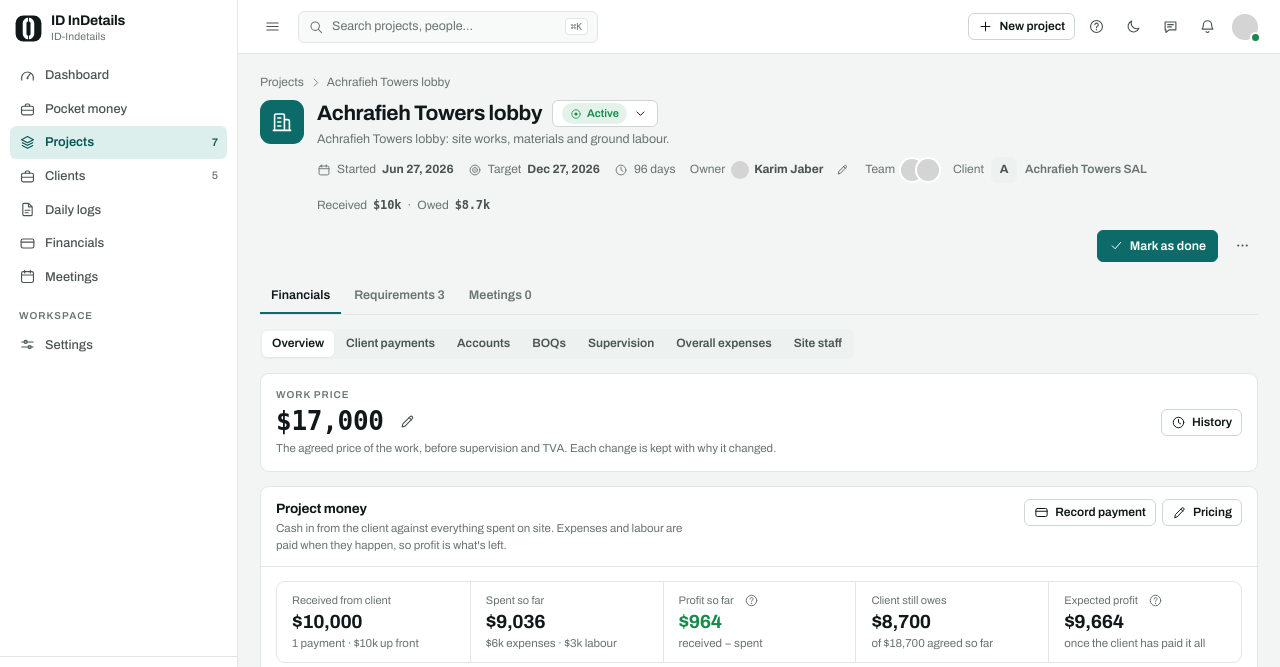
Test: the supervision and TVA › show the work price first on the Financials tab, in bold, and the supervision, the TVA and the client total in the account
Expected: the tab "Financials" is shown, [260,278,341,314]
Click the button named "Edit pricing" at (408, 421), box [392,405,424,437]
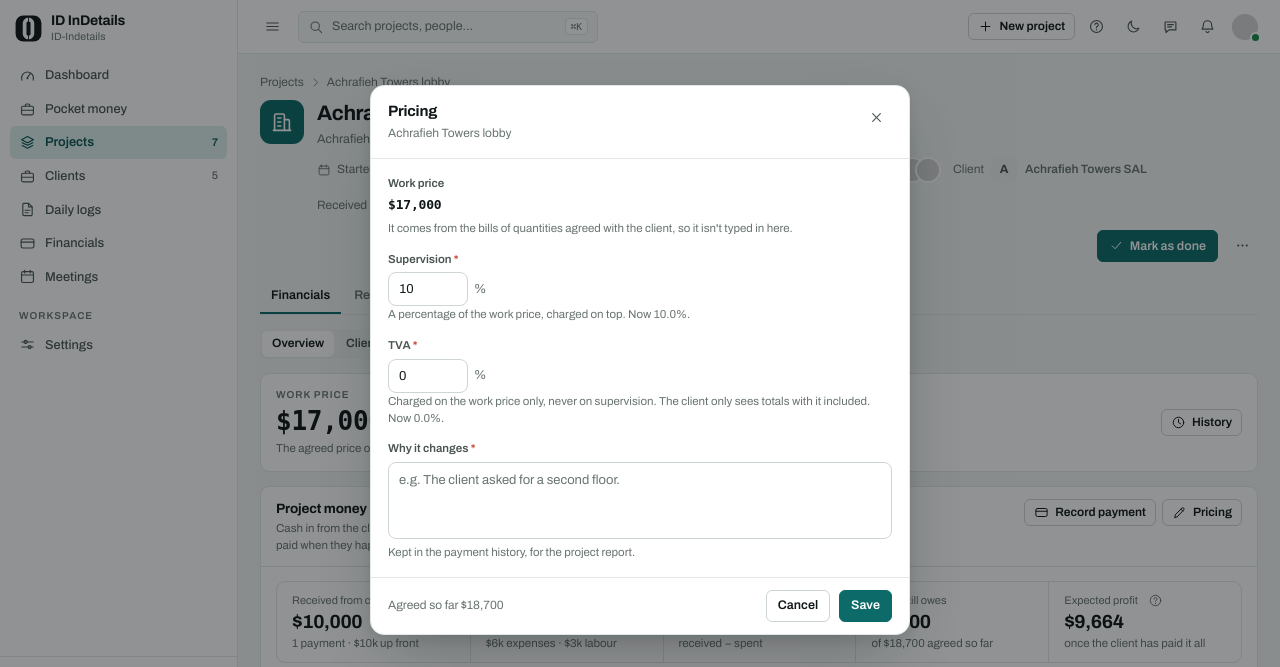
Now the dialog "Pricing" is shown, box [370,86,910,634]
Click the button "Cancel" at (798, 606), box [766,590,830,622]
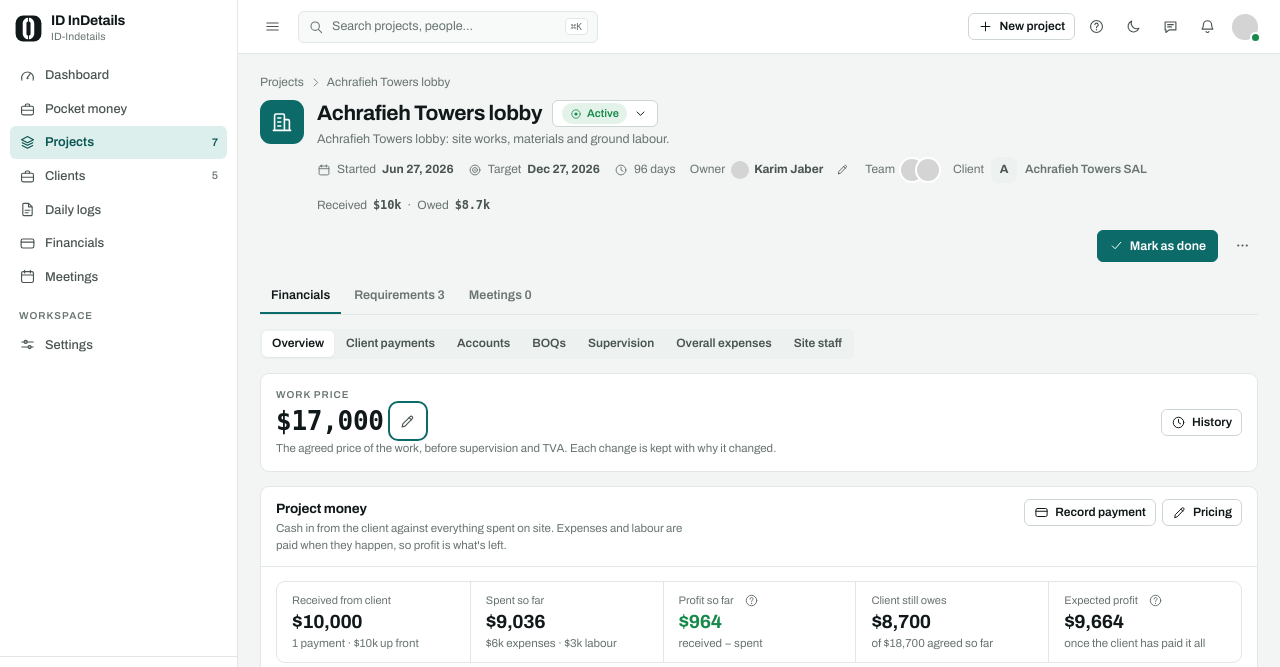
Click the button "History" at (1202, 422), box [1161,409,1242,436]
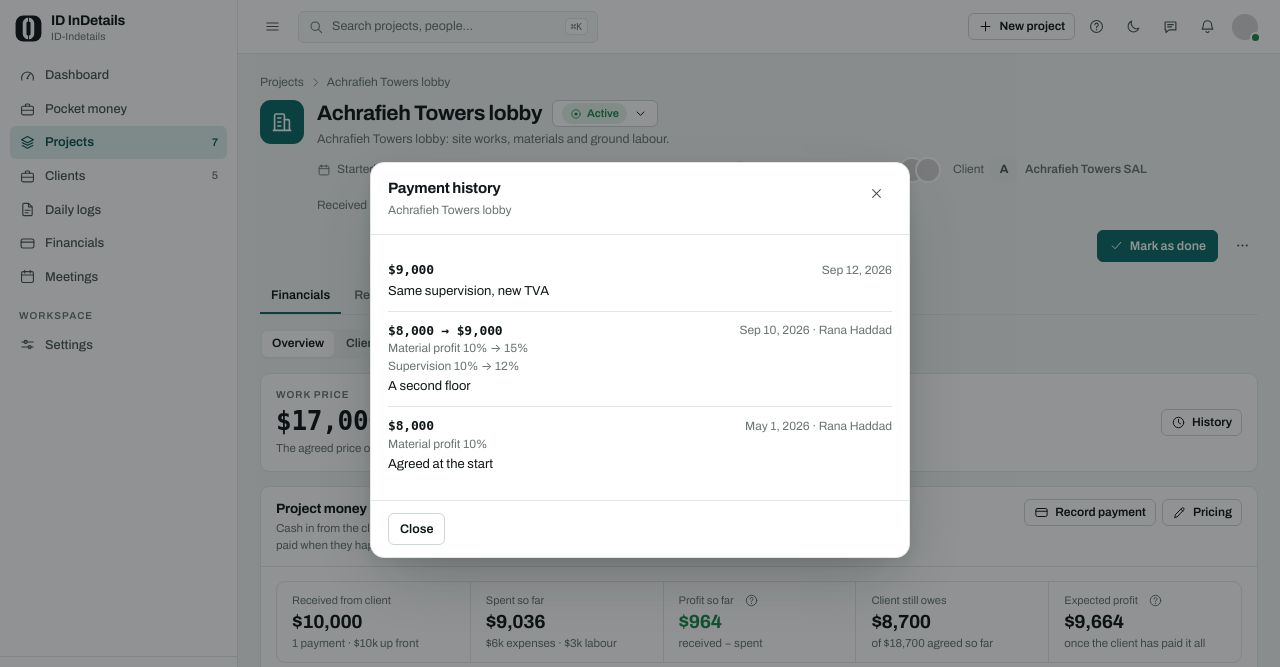
Now the list item "$9,000 Sep 12, 2026 Same supervision, new TVA" is shown, box [388,251,892,312]
Now the list item that starts with "Sep 10, 2026" shows "Material profit 10% → 15%", box [388,312,892,407]
Now the list item that starts with "Sep 10, 2026" shows "Supervision 10% → 12%", box [388,312,892,407]
